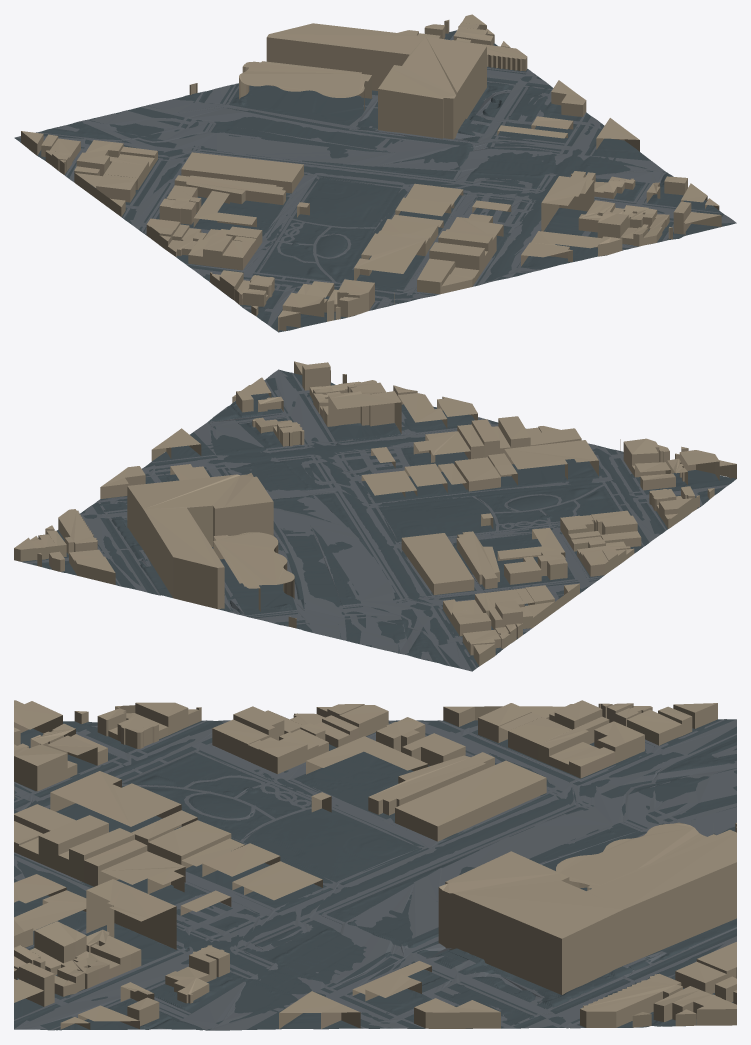
File: epsg26910-1438-10888.lod0.glb
The picture shows the model from 3 angles, top to bottom: view 1: azimuth 30°, elevation 25°; view 2: azimuth 150°, elevation 25°; view 3: azimuth 270°, elevation 25°; orthographic projection. The views are drawn at different scales.
Parts seen in each view (by area): view 1: epsg26910-1438-10888-lod0; view 2: epsg26910-1438-10888-lod0; view 3: epsg26910-1438-10888-lod0.
Boxes of the visible parts, bbox=[...] form: epsg26910-1438-10888-lod0: bbox=[14, 14, 736, 332]; epsg26910-1438-10888-lod0: bbox=[14, 361, 736, 671]; epsg26910-1438-10888-lod0: bbox=[14, 700, 736, 1030].
Bounding box in the file's own units: 384 × 37.8 × 384.
